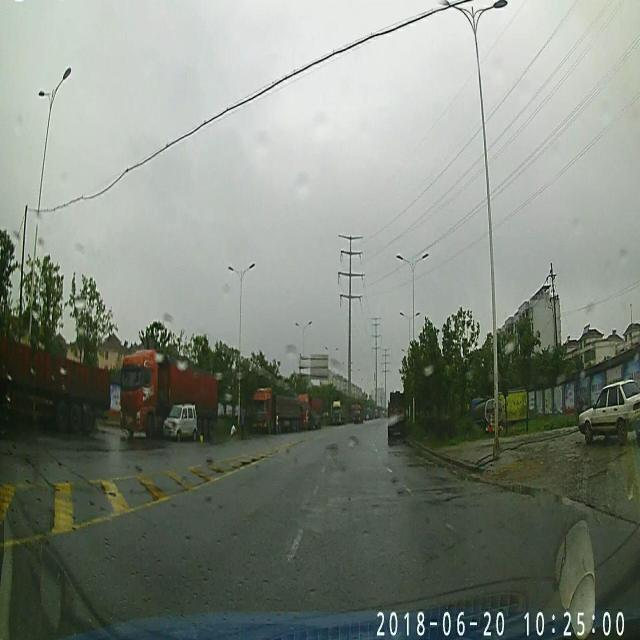car: (119, 360, 217, 440), (576, 370, 638, 440), (254, 381, 301, 433), (164, 400, 194, 440), (386, 389, 408, 440)
